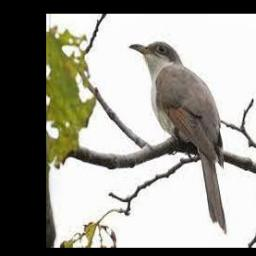Cuckoo: (128, 41, 226, 234)
